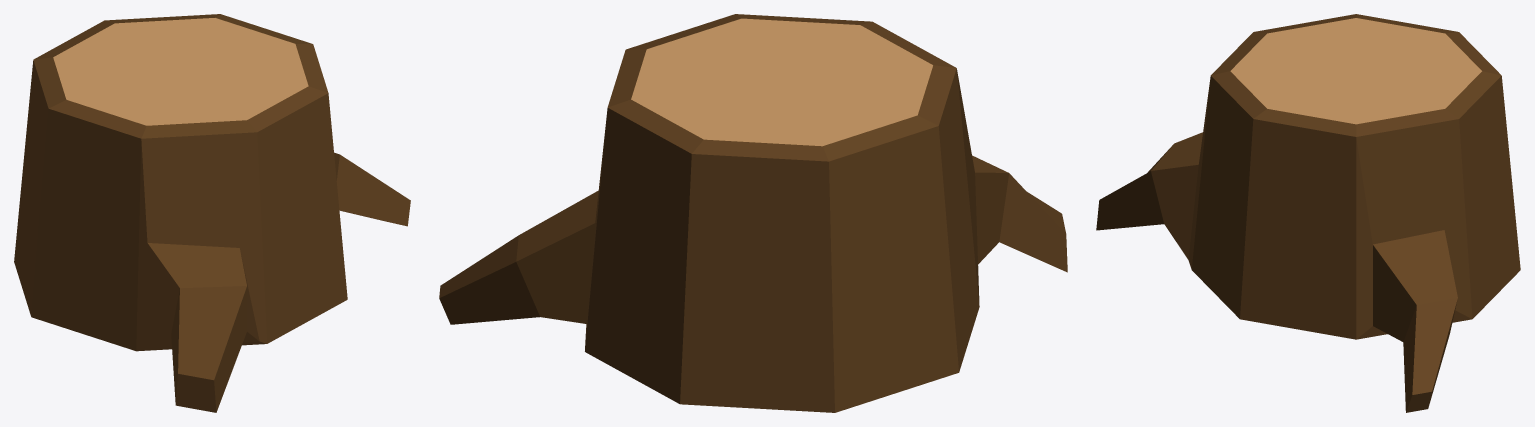
The model's file is arbol_seco_2.fbx.
The picture shows the model from 3 angles, left to right: view 1: azimuth 30°, elevation 25°; view 2: azimuth 150°, elevation 25°; view 3: azimuth 270°, elevation 25°; orthographic projection. The views are drawn at different scales.
Parts seen in each view (by area): view 1: tree_dead_piece2; view 2: tree_dead_piece2; view 3: tree_dead_piece2.
Part boxes in pixels (<box>): tree_dead_piece2: <box>14,14,410,412</box>; tree_dead_piece2: <box>439,14,1067,412</box>; tree_dead_piece2: <box>1096,14,1520,412</box>.
Size of the model in its own units: 103 by 57.13 by 97.58.
